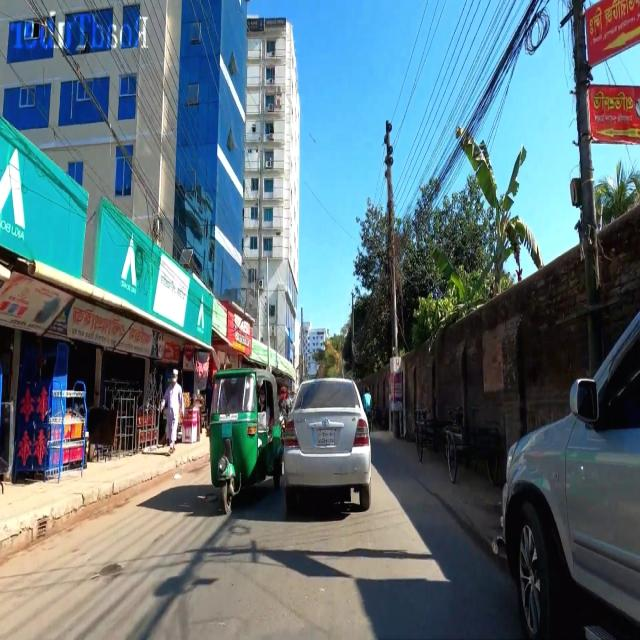white: (491, 284, 640, 640), (279, 370, 377, 511)
